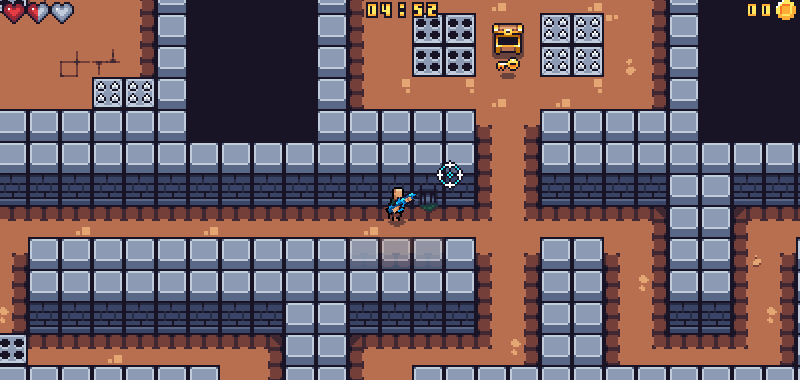key: (493, 56, 522, 74)
trap_off: (412, 13, 475, 76), (542, 15, 602, 77), (92, 76, 156, 110)
treasury_open: (489, 21, 526, 57)
